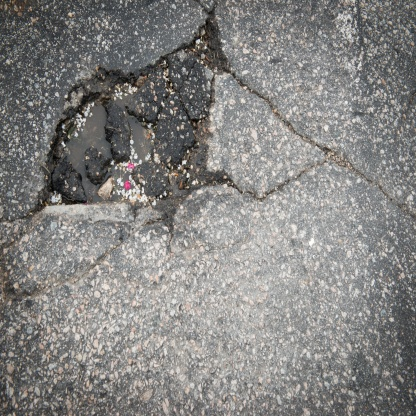pothole: (23, 1, 239, 235)
